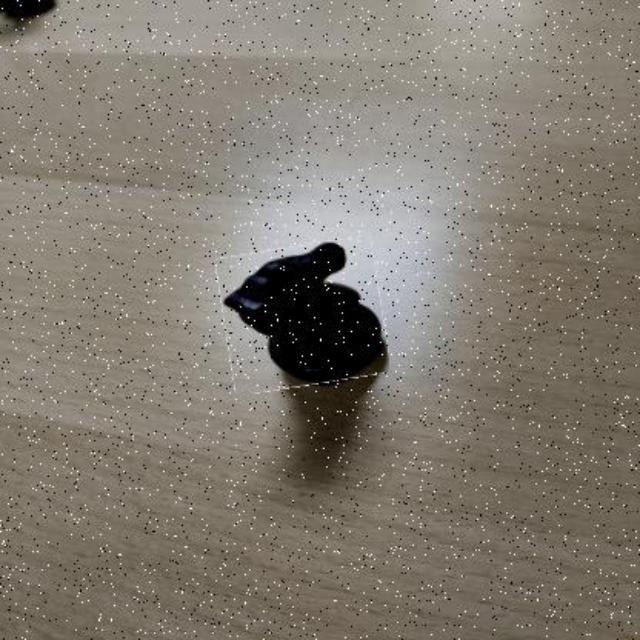black-knight: (220, 240, 386, 389)
